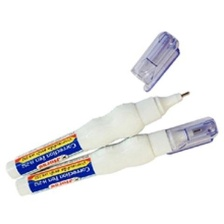correction_fluid: (3, 89, 192, 184), (13, 114, 219, 198)
